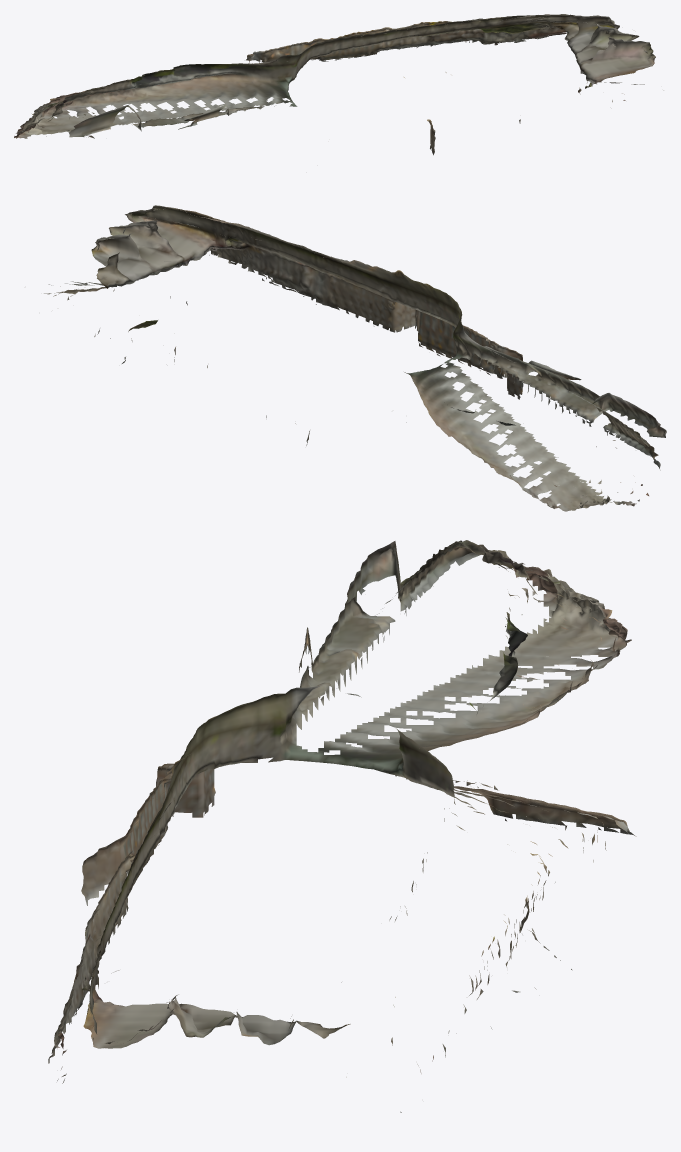
File: collider.glb
3 views of the same model, one above another, from view 1: azimuth 30°, elevation 25°; view 2: azimuth 150°, elevation 25°; view 3: azimuth 270°, elevation 25° (orthographic). The views are drawn at different scales.
Parts seen in each view (by area): view 1: world; view 2: world; view 3: world.
Part boxes in pixels (x1,y1,x2,y2): world: (14, 14, 663, 155); world: (44, 205, 666, 511); world: (48, 540, 636, 1112).
Size of the model in its own units: 19.28 by 2.47 by 8.54.
